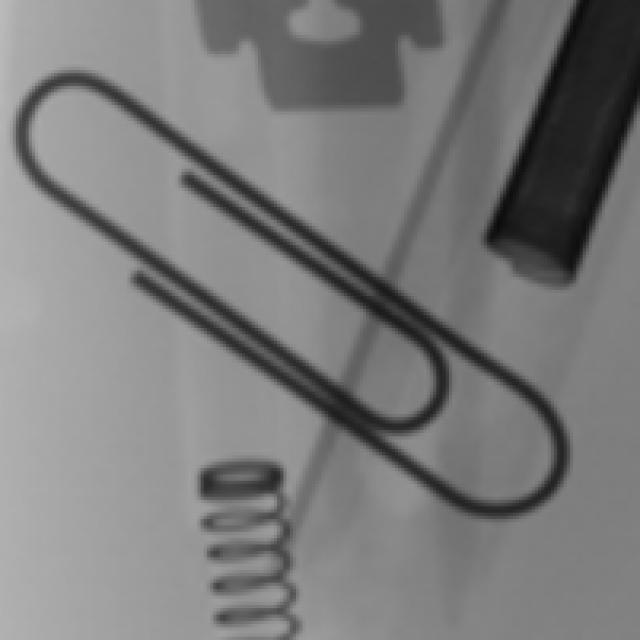BLADE: (180, 1, 449, 159)
